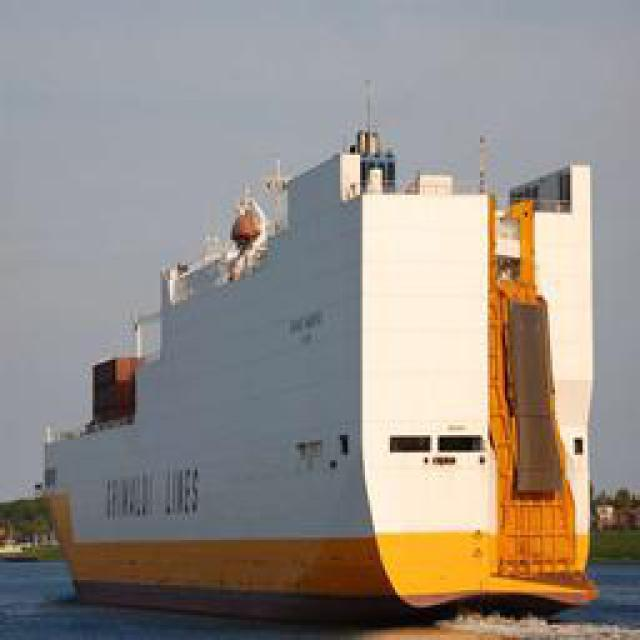Ship: (29, 74, 625, 635)
